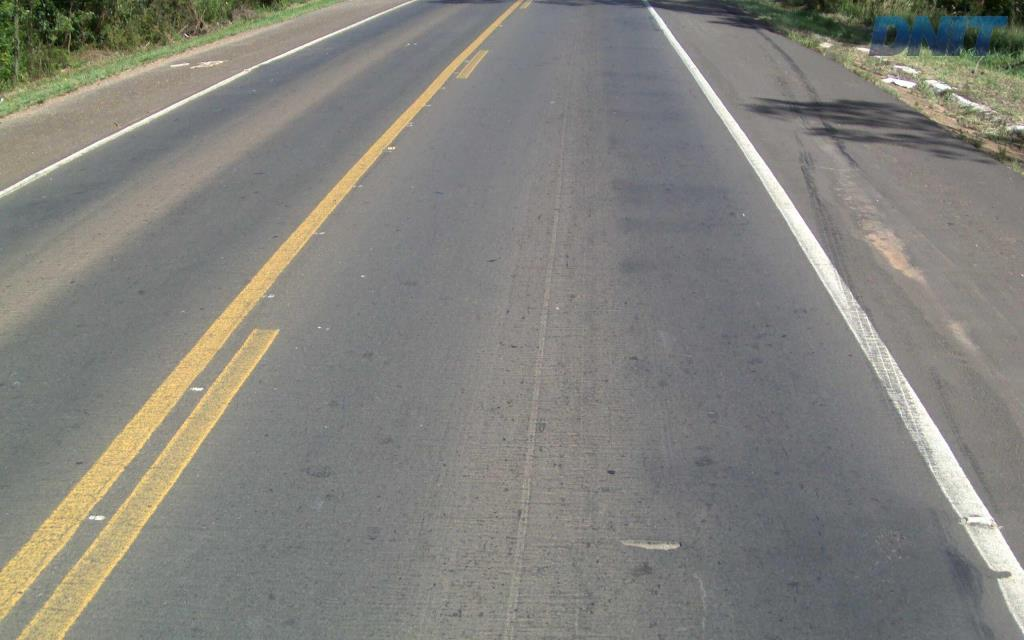pothole: (618, 533, 687, 555)
